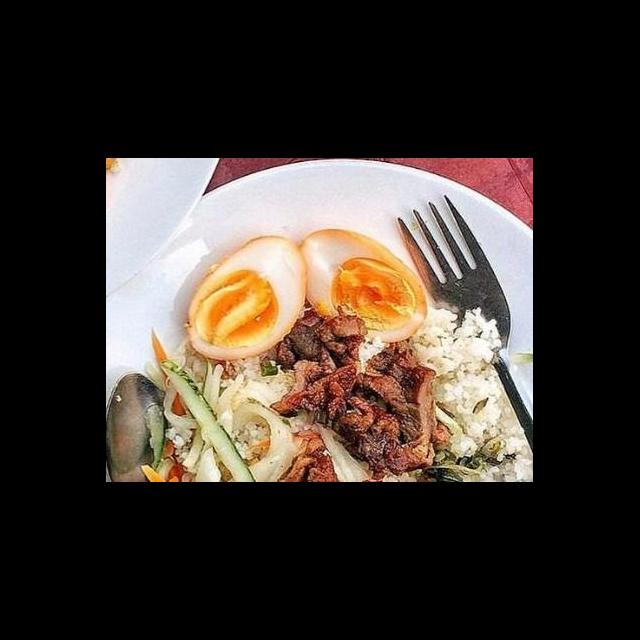com: (404, 302, 534, 482), (238, 349, 300, 401)
com suon trung: (118, 194, 532, 482)
dua chua: (134, 324, 302, 482)
suon: (268, 301, 456, 482)
trung: (182, 233, 310, 363), (294, 226, 430, 345)
